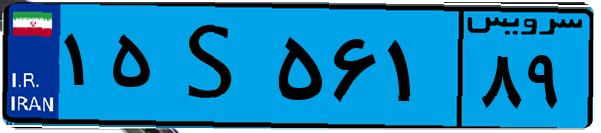1: (385, 28, 445, 110), (57, 26, 110, 100)
5: (270, 28, 330, 110), (110, 28, 158, 98)
6: (330, 28, 385, 110)
8: (475, 38, 525, 113)
9: (525, 38, 570, 115)
S: (158, 12, 270, 120)
